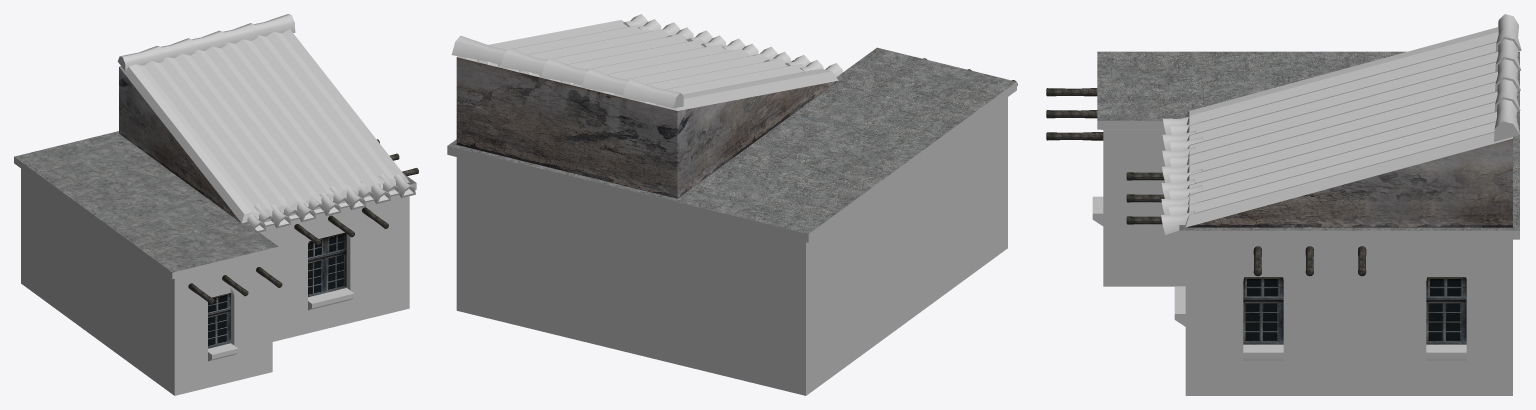
Rendered from Building_Roof_05.fbx.
The picture shows the model from 3 angles, left to right: view 1: azimuth 30°, elevation 25°; view 2: azimuth 150°, elevation 25°; view 3: azimuth 270°, elevation 25°; orthographic projection. The views are drawn at different scales.
Visible parts, largest first — view 1: Building_Roof_05; view 2: Building_Roof_05; view 3: Building_Roof_05.
Part boxes in pixels (x1,y1,x2,y2): Building_Roof_05: [14, 14, 418, 395]; Building_Roof_05: [447, 14, 1017, 395]; Building_Roof_05: [1046, 14, 1521, 395].
Size of the model in its own units: 575 by 371 by 580.
